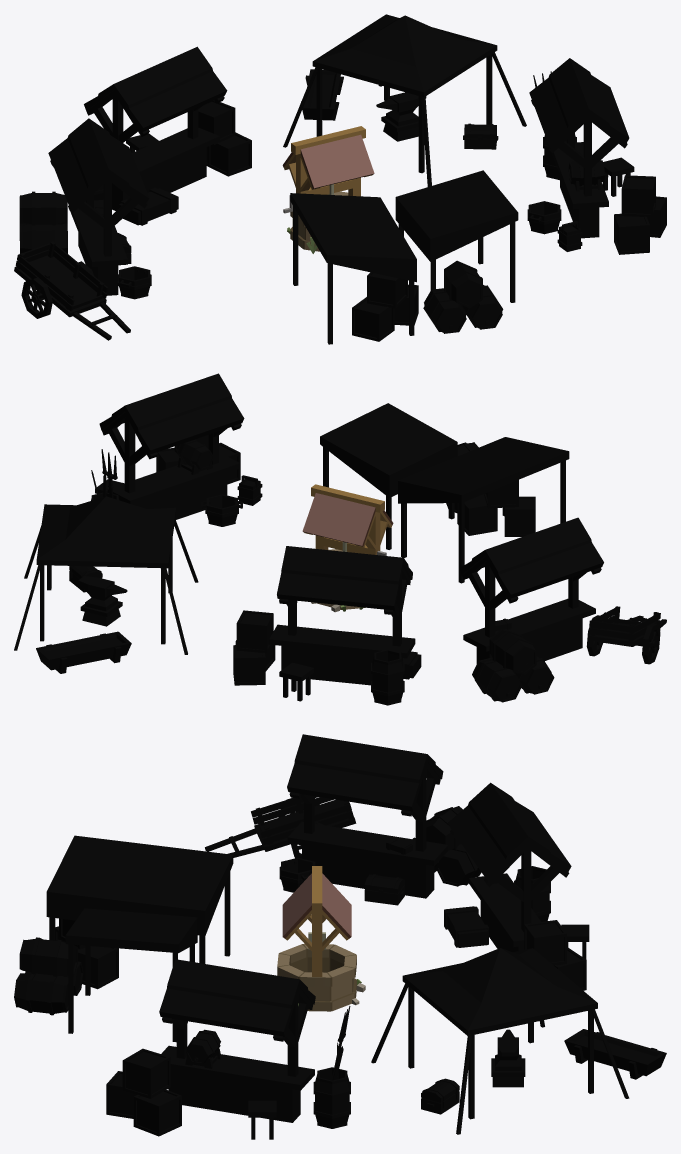
The model's file is Market.gltf.
3 renders of one model, top to bottom at view 1: azimuth 30°, elevation 25°; view 2: azimuth 150°, elevation 25°; view 3: azimuth 270°, elevation 25°, orthographic. The views are drawn at different scales.
Visible parts, largest first — view 1: SF_Bld_Market_01; view 2: SF_Bld_Market_01; view 3: SF_Bld_Market_01.
Part boxes in pixels (bbox=[...]): SF_Bld_Market_01: bbox=[14, 14, 666, 344]; SF_Bld_Market_01: bbox=[14, 373, 666, 705]; SF_Bld_Market_01: bbox=[14, 734, 666, 1139].
Size of the model in its own units: 0.2366 by 0.052 by 0.2115.
1 material, 1 textured.
